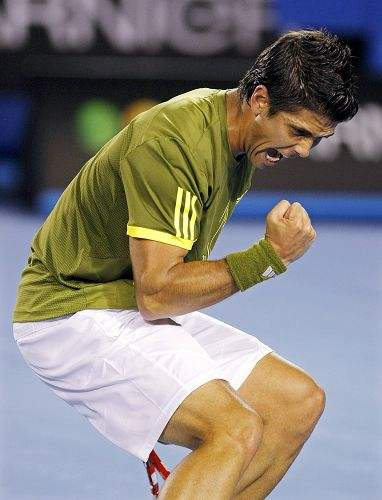no-phone: (264, 197, 317, 266)
